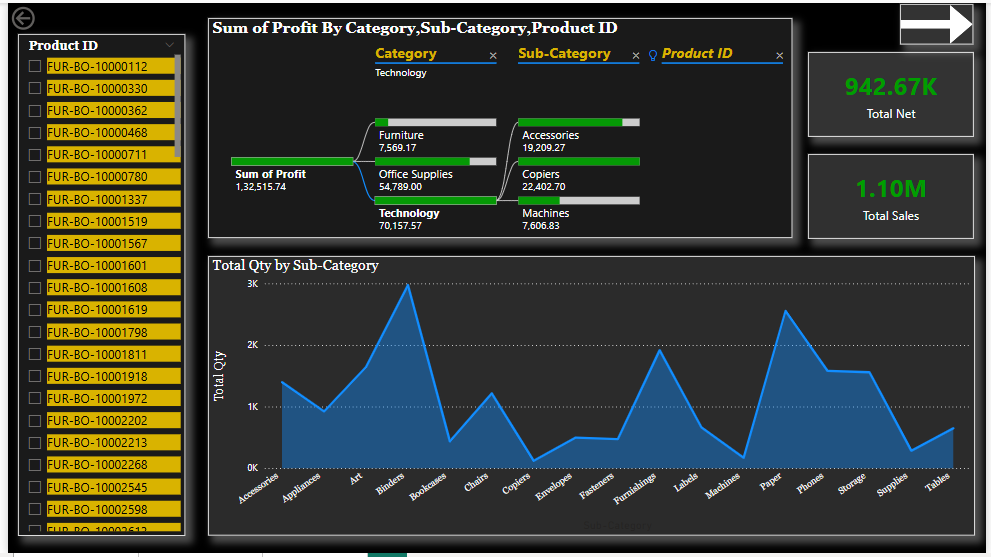

The page's visual inventory and layout, read from the dashboard file:
{"tool":"powerbi","page":{"name":"Product Details","canvas":[1280,720],"ordinal":1},"visuals":[{"type":"actionButton","box":[0,0,100,40],"z":0},{"type":"card","fields":{"Values":["Measure.Total Net"]},"box":[1046.9,64.8,217.4,110.9],"z":1000},{"type":"card","fields":{"Values":["Measure.Total Sales"]},"box":[1046.9,197.3,217.4,110.9],"z":2000},{"type":"slicer","fields":{"Values":["Product.Product ID"]},"box":[12.9,40,218.6,657.1],"z":3000},{"type":"stackedAreaChart","fields":{"Category":["Product.Sub-Category"],"Y":["Measure.Total Qty"]},"box":[262.1,331.2,1003.7,365.8],"z":4000},{"type":"decompositionTreeVisual","title":"Sum of Profit By Category,Sub-Category,Product ID","fields":{"Analyze":["Sum(Orders.Profit)"],"ExplainBy":["Product.Category","Product.Sub-Category","Product.Product ID"]},"box":[262.1,20.2,764.6,288],"z":5000},{"type":"actionButton","box":[1167.8,1.4,96.5,53.3],"z":6000}]}

Visuals, with their boxes in screenshot pixels (x1, y1, x2, y2), scaled from the page's 1280x720 canvas onto the 991x557 screenshot:
actionButton: l=0, t=0, r=77, b=31
card - Measure.Total Net: l=811, t=50, r=979, b=136
card - Measure.Total Sales: l=811, t=153, r=979, b=238
slicer - Product.Product ID: l=10, t=31, r=179, b=539
stackedAreaChart - Product.Sub-Category x Measure.Total Qty: l=203, t=256, r=980, b=539
"Sum of Profit By Category,Sub-Category,Product ID" decompositionTreeVisual: l=203, t=16, r=795, b=238
actionButton: l=904, t=1, r=979, b=42
